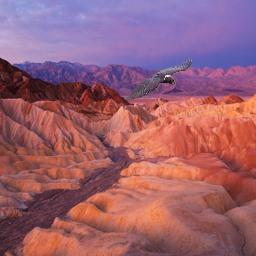Crow: (125, 59, 192, 101)
